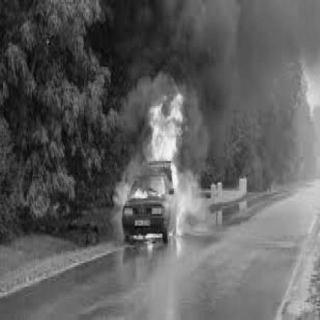Fire: (128, 80, 182, 189), (128, 218, 162, 250), (165, 193, 187, 239), (128, 174, 150, 200)
Smoke: (170, 0, 236, 108)
